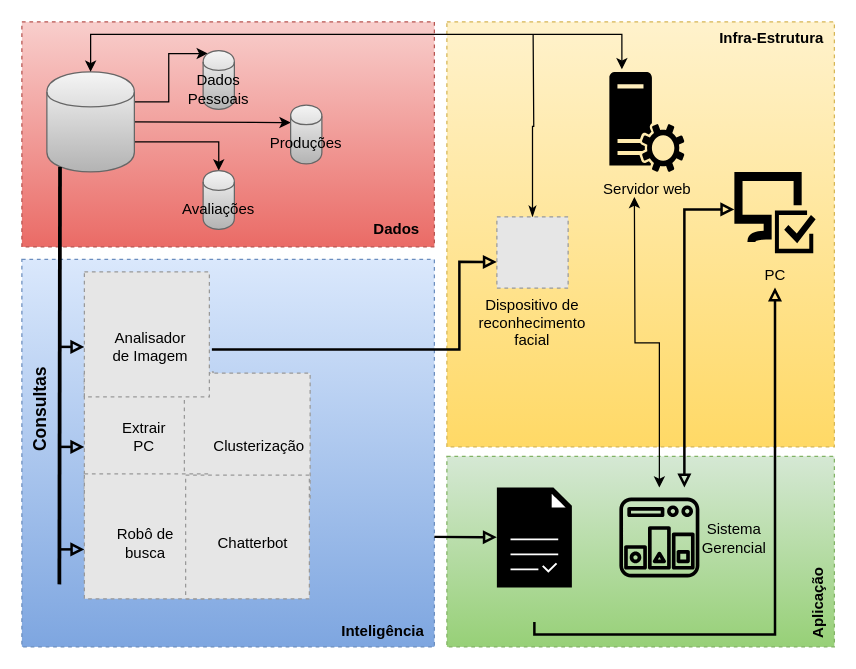
This 856x669 diagram has some shape labels left out. Grey dashed boxes stand in for pictures. Each missing label, with the box of its shape:
AVA: (46, 71, 134, 172)
Recomendações: (496, 487, 571, 587)
